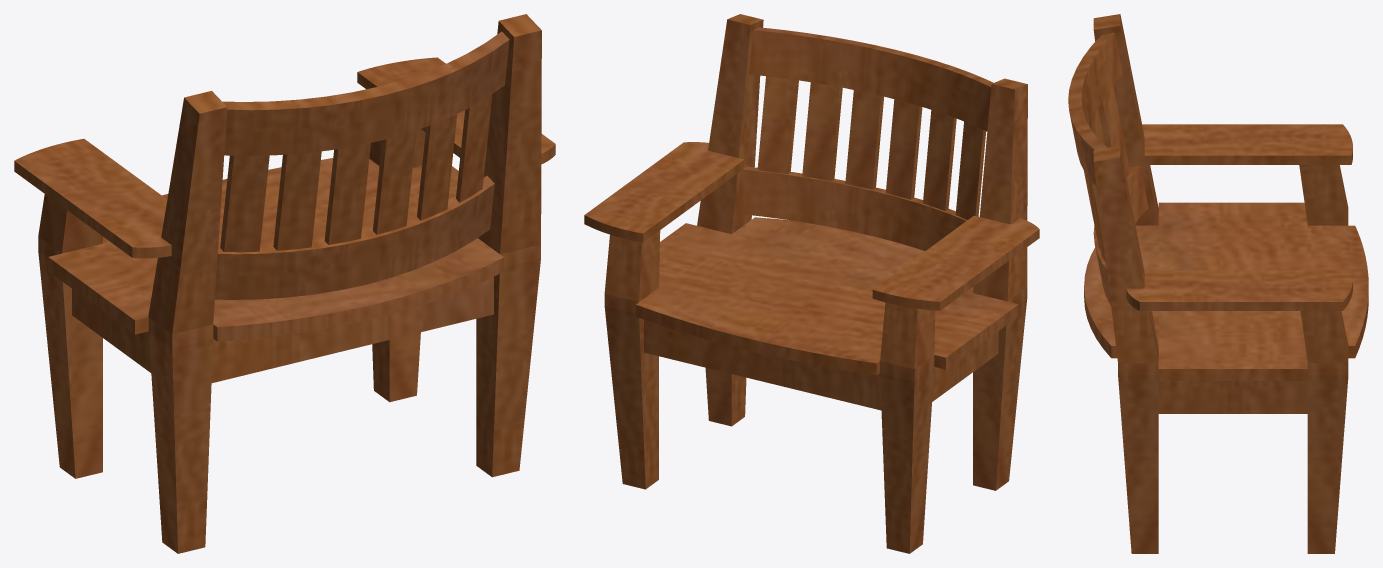
3 renders of one model, left to right at view 1: azimuth 30°, elevation 25°; view 2: azimuth 150°, elevation 25°; view 3: azimuth 270°, elevation 25°, orthographic. The views are drawn at different scales.
Visible parts, largest first — view 1: mesh23_mesh23-geometry, mesh11_mesh11-geometry, mesh3_mesh3-geometry, mesh1_mesh1-geometry, mesh13_mesh13-geometry, mesh15_mesh15-geometry, mesh19_mesh19-geometry, mesh7_mesh7-geometry, mesh25_mesh25-geometry, mesh27_mesh27-geometry, mesh29_mesh29-geometry, mesh31_mesh31-geometry (+5 smaller); view 2: mesh11_mesh11-geometry, mesh23_mesh23-geometry, mesh1_mesh1-geometry, mesh3_mesh3-geometry, mesh19_mesh19-geometry, mesh21_mesh21-geometry, mesh13_mesh13-geometry, mesh15_mesh15-geometry, mesh9_mesh9-geometry, mesh17_mesh17-geometry, mesh35_mesh35-geometry, mesh33_mesh33-geometry (+5 smaller); view 3: mesh11_mesh11-geometry, mesh21_mesh21-geometry, mesh19_mesh19-geometry, mesh15_mesh15-geometry, mesh1_mesh1-geometry, mesh3_mesh3-geometry, mesh23_mesh23-geometry, mesh5_mesh5-geometry, mesh17_mesh17-geometry, mesh13_mesh13-geometry, mesh25_mesh25-geometry, mesh33_mesh33-geometry.
Boxes of the visible parts, <box> form: mesh23_mesh23-geometry: <box>215,31,509,299</box>; mesh11_mesh11-geometry: <box>48,158,503,341</box>; mesh3_mesh3-geometry: <box>38,236,540,478</box>; mesh1_mesh1-geometry: <box>148,318,420,553</box>; mesh13_mesh13-geometry: <box>148,91,227,334</box>; mesh15_mesh15-geometry: <box>478,14,541,254</box>; mesh19_mesh19-geometry: <box>14,138,171,258</box>; mesh7_mesh7-geometry: <box>211,277,493,382</box>; mesh25_mesh25-geometry: <box>220,155,269,252</box>; mesh27_mesh27-geometry: <box>273,151,321,250</box>; mesh29_mesh29-geometry: <box>324,143,370,244</box>; mesh31_mesh31-geometry: <box>372,130,416,234</box>; mesh11_mesh11-geometry: <box>635,217,1018,375</box>; mesh23_mesh23-geometry: <box>736,27,993,250</box>; mesh1_mesh1-geometry: <box>604,287,1027,490</box>; mesh3_mesh3-geometry: <box>705,355,934,553</box>; mesh19_mesh19-geometry: <box>872,215,1039,310</box>; mesh21_mesh21-geometry: <box>584,142,744,242</box>; mesh13_mesh13-geometry: <box>973,78,1027,301</box>; mesh15_mesh15-geometry: <box>697,14,763,234</box>; mesh9_mesh9-geometry: <box>644,319,881,410</box>; mesh17_mesh17-geometry: <box>604,230,935,369</box>; mesh35_mesh35-geometry: <box>757,76,798,173</box>; mesh33_mesh33-geometry: <box>802,82,842,180</box>; mesh11_mesh11-geometry: <box>1084,202,1368,380</box>; mesh21_mesh21-geometry: <box>1126,270,1352,310</box>; mesh19_mesh19-geometry: <box>1142,124,1352,164</box>; mesh15_mesh15-geometry: <box>1093,146,1158,363</box>; mesh1_mesh1-geometry: <box>1307,363,1348,553</box>; mesh3_mesh3-geometry: <box>1118,363,1158,553</box>; mesh23_mesh23-geometry: <box>1068,32,1148,305</box>; mesh5_mesh5-geometry: <box>1158,381,1307,413</box>; mesh17_mesh17-geometry: <box>1299,165,1348,362</box>; mesh13_mesh13-geometry: <box>1093,14,1158,225</box>; mesh25_mesh25-geometry: <box>1098,86,1130,177</box>; mesh33_mesh33-geometry: <box>1086,174,1105,262</box>.
Bounding box in the file's own units: 0.6207 × 0.6462 × 0.444.
